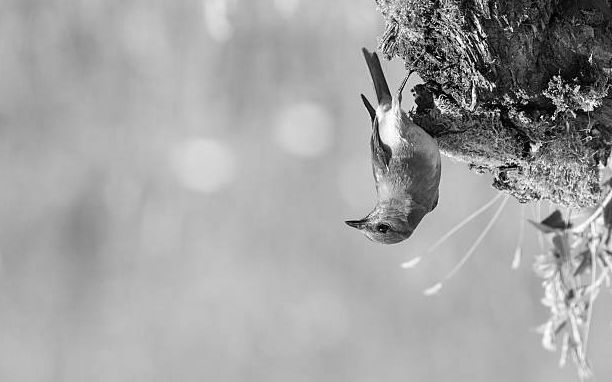Bird: (342, 40, 447, 247)
